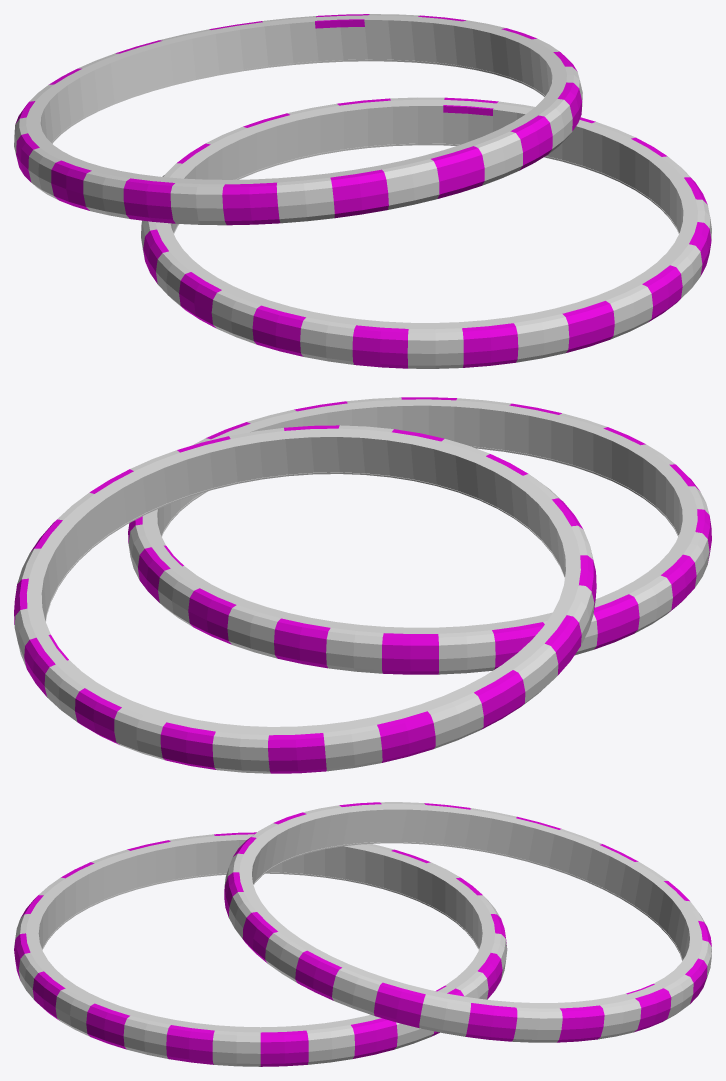
File: soğan.fbx
3 renders of one model, top to bottom at view 1: azimuth 30°, elevation 25°; view 2: azimuth 150°, elevation 25°; view 3: azimuth 270°, elevation 25°, orthographic. The views are drawn at different scales.
Parts seen in each view (by area): view 1: Cylinder.008, Cylinder.007; view 2: Cylinder.008, Cylinder.007; view 3: Cylinder.008, Cylinder.007.
Part boxes in pixels (x1=…): Cylinder.008: x1=14, y1=14, x2=582, y2=225; Cylinder.007: x1=141, y1=97, x2=711, y2=368; Cylinder.008: x1=14, y1=425, x2=596, y2=773; Cylinder.007: x1=128, y1=397, x2=711, y2=674; Cylinder.008: x1=224, y1=802, x2=711, y2=1042; Cylinder.007: x1=14, y1=832, x2=507, y2=1066.
Size of the model in its own units: 123 by 27.17 by 171.
